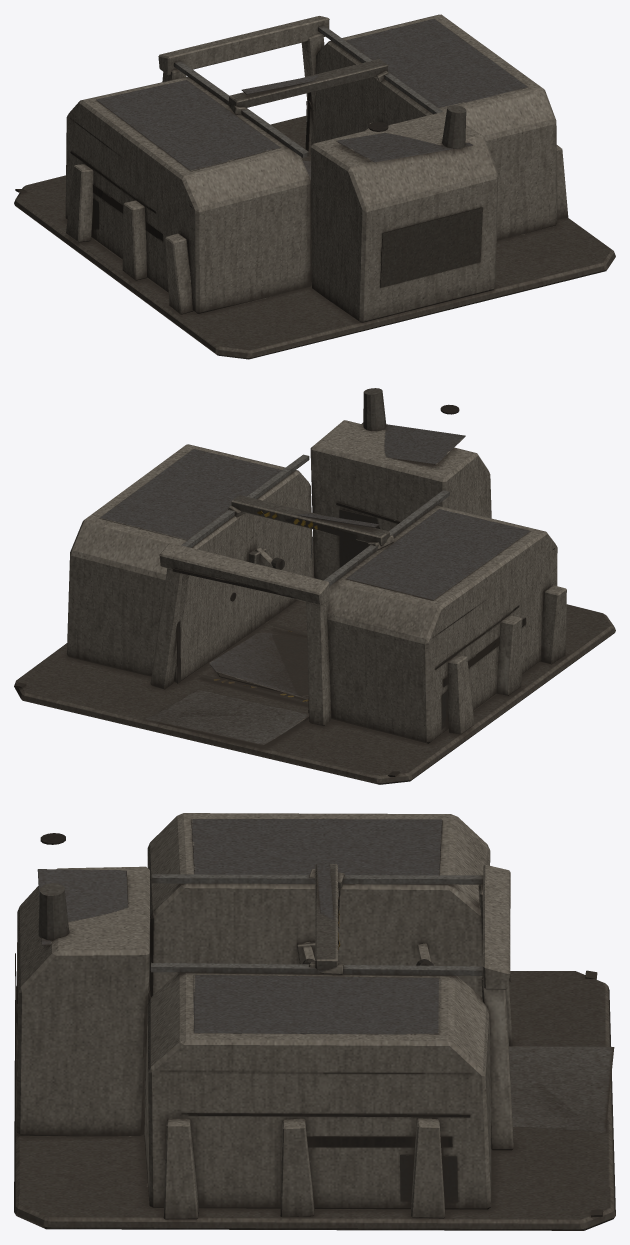
Rendered from ord_vehplant_wreck.fbx.
The picture shows the model from 3 angles, top to bottom: view 1: azimuth 30°, elevation 25°; view 2: azimuth 150°, elevation 25°; view 3: azimuth 270°, elevation 25°; orthographic projection. The views are drawn at different scales.
Parts seen in each view (by area): view 1: base_bar, gantry_bar; view 2: base_bar, gantry_bar; view 3: base_bar, gantry_bar.
Boxes of the visible parts, x1,y1,x2,y2 form: base_bar: [14, 14, 615, 359]; gantry_bar: [228, 59, 388, 121]; base_bar: [14, 388, 615, 784]; gantry_bar: [228, 495, 394, 558]; base_bar: [14, 813, 615, 1230]; gantry_bar: [309, 863, 344, 974].
Size of the model in its own units: 3127 by 1597 by 3135.
2 materials, 2 textured.
